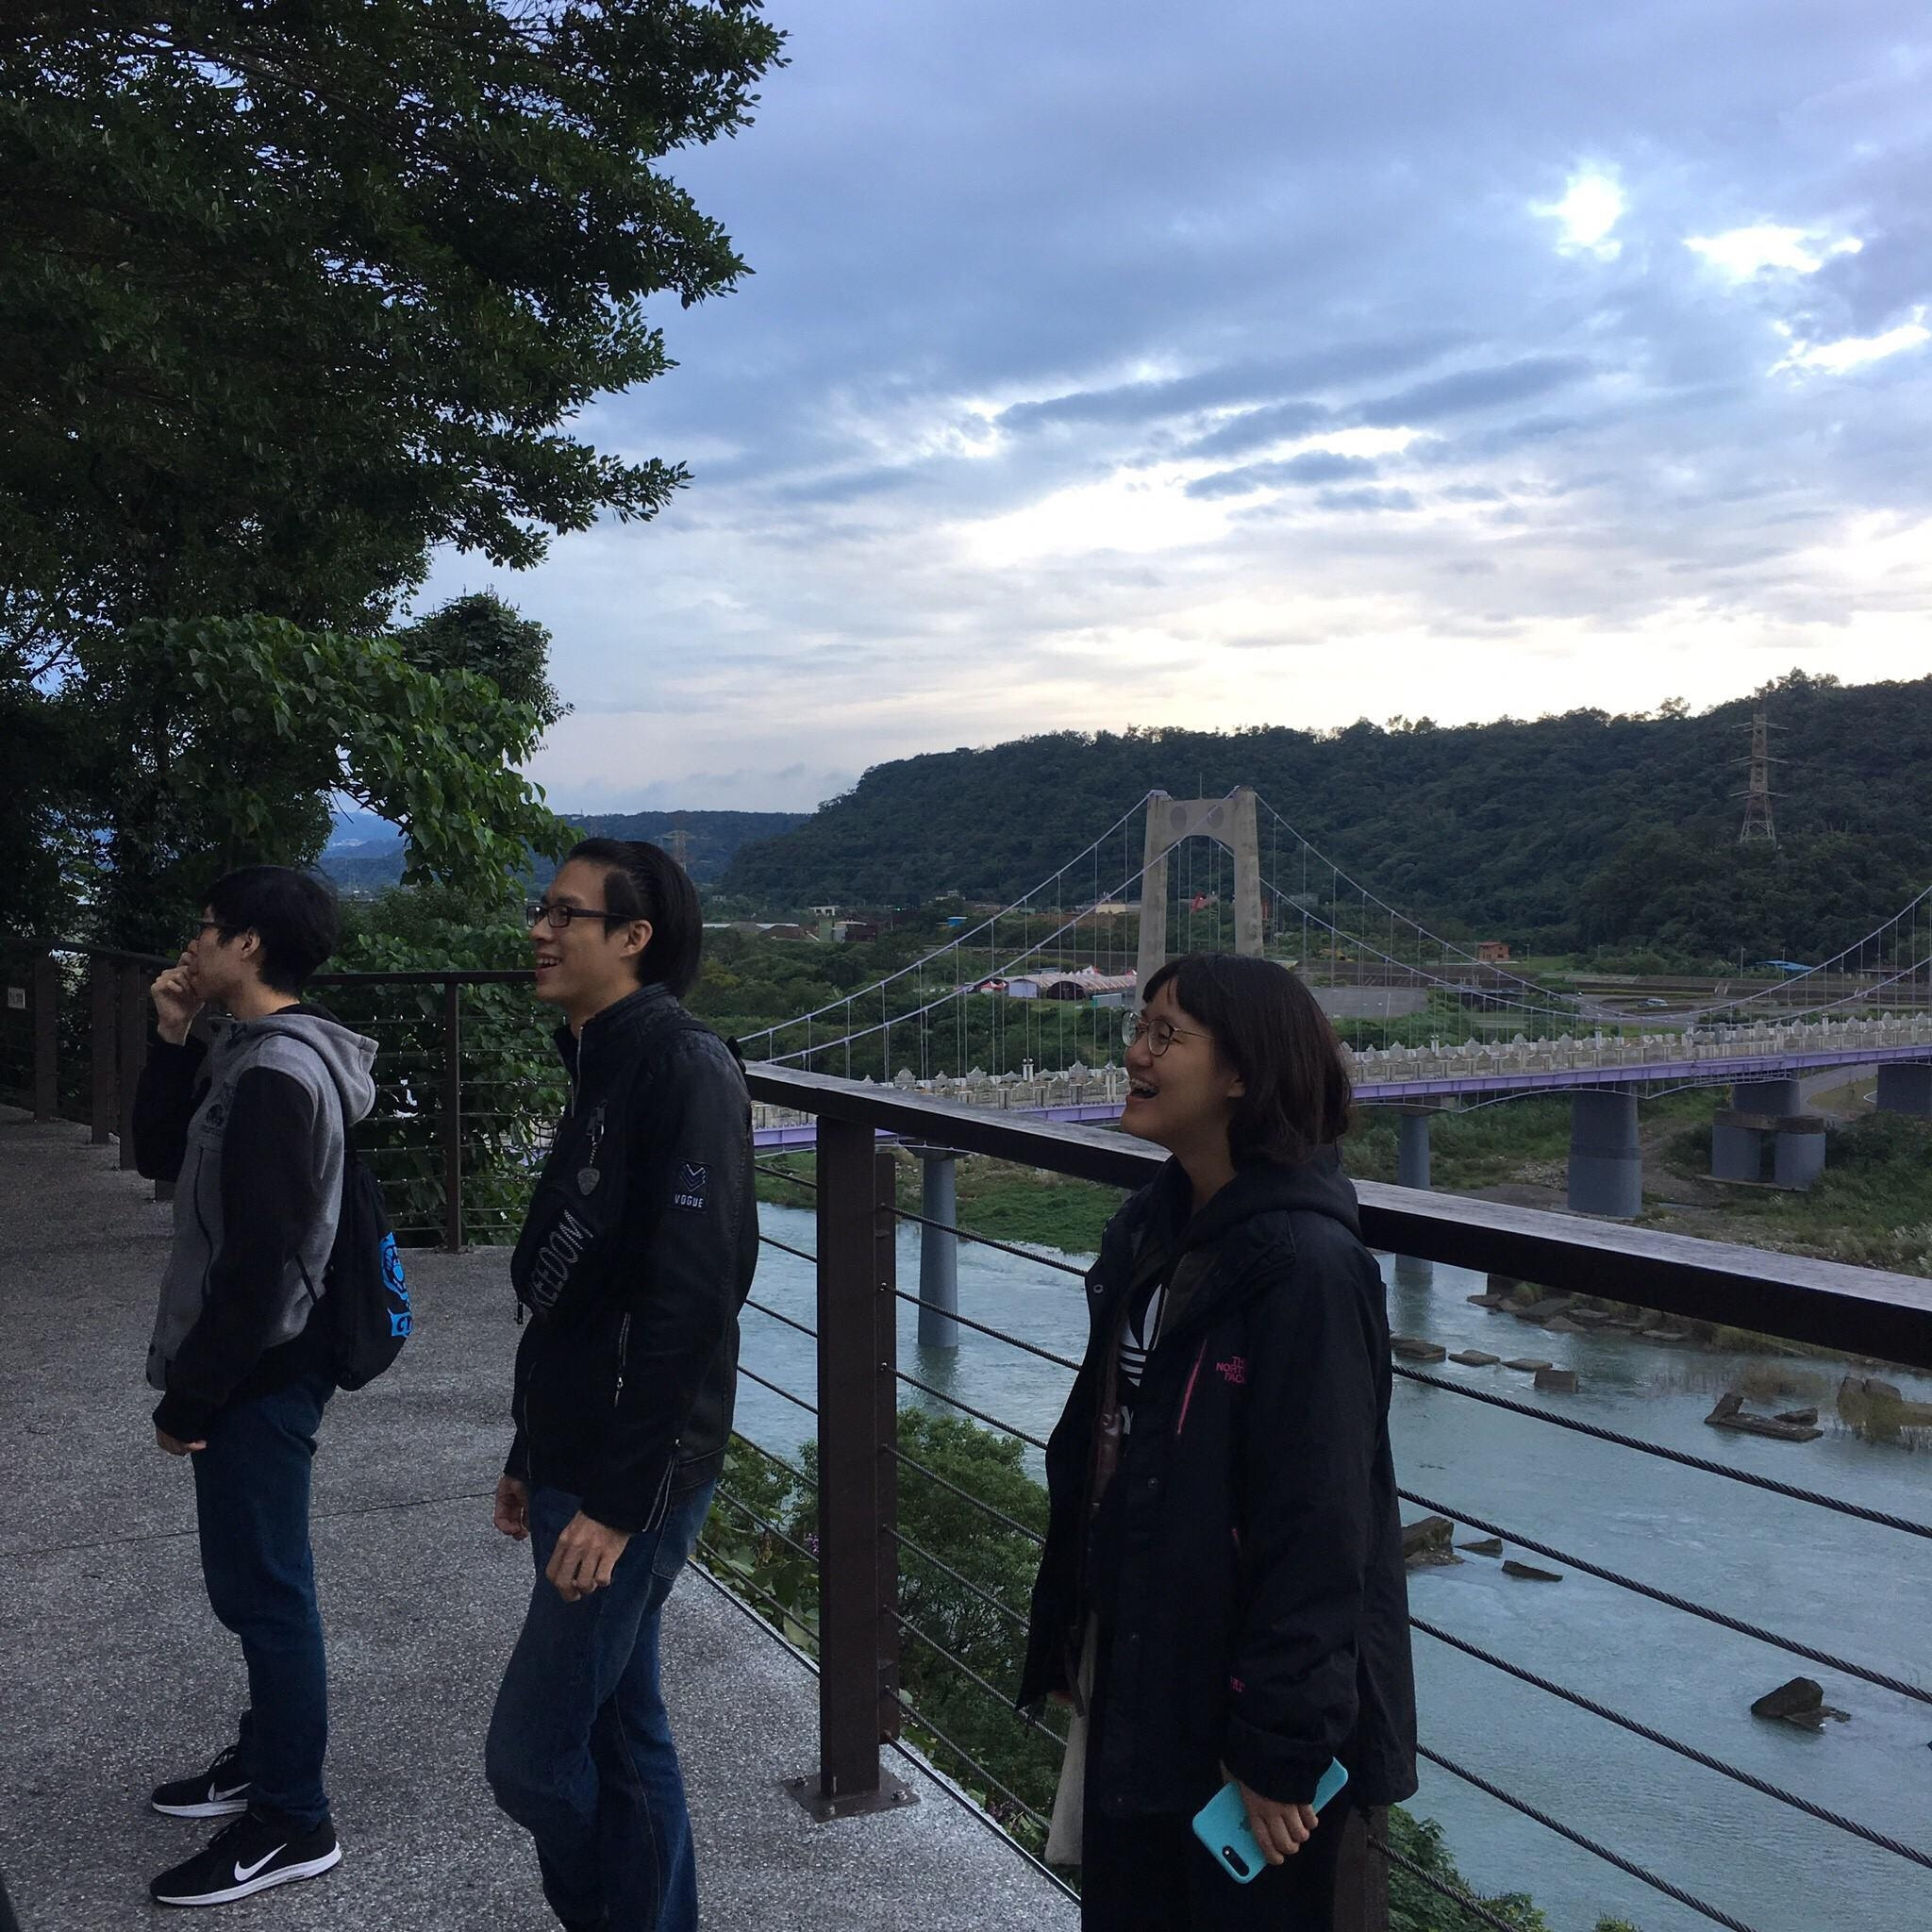people: (1092, 958, 1344, 1932), (526, 851, 721, 1928), (167, 903, 346, 1891)
